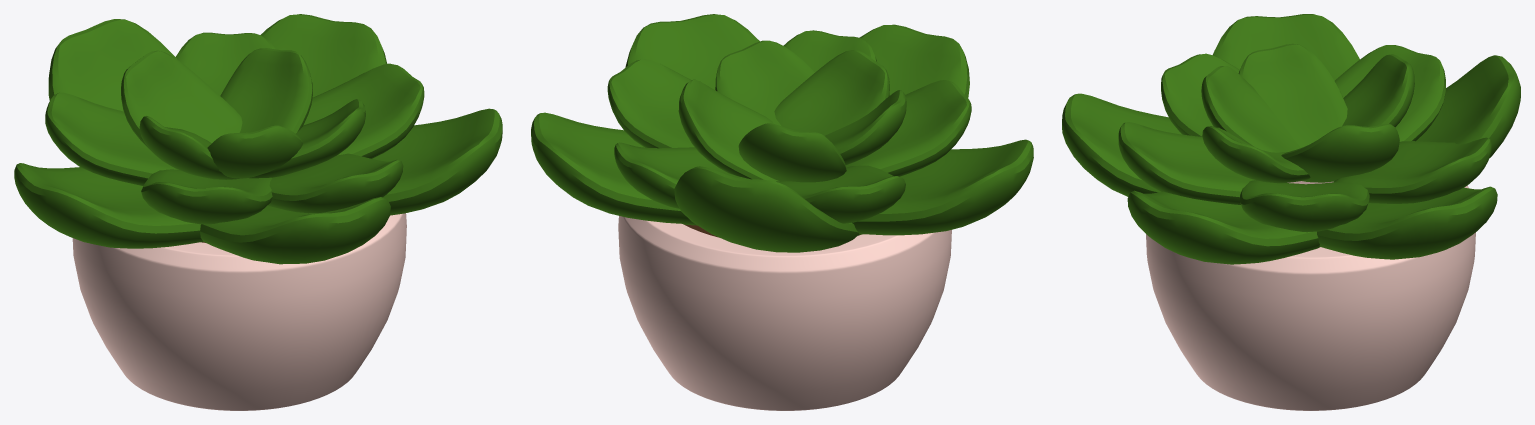
Rendered from Plant_Three.fbx.
The picture shows the model from 3 angles, left to right: view 1: azimuth 30°, elevation 25°; view 2: azimuth 150°, elevation 25°; view 3: azimuth 270°, elevation 25°; orthographic projection.
Parts seen in each view (by area): view 1: Pot.002, Cube.039, Cube.036, Cube.035, Cube.049, Cube.044, Cube.038, Cube.042, Cube.048, Cube.037, Cube.041, Cube.040 (+4 smaller); view 2: Pot.002, Cube.038, Cube.039, Cube.037, Cube.046, Cube.040, Cube.036, Cube.042, Cube.048, Cube.035, Cube.047, Cube.049 (+4 smaller); view 3: Pot.002, Cube.036, Cube.037, Cube.045, Cube.041, Cube.043, Cube.038, Cube.035, Cube.042, Cube.039, Cube.046, Cube.048 (+4 smaller).
Part boxes in pixels (left/top/right/bottom): Pot.002: left=72, top=213, right=406, bottom=410; Cube.039: left=14, top=163, right=203, bottom=248; Cube.036: left=372, top=108, right=502, bottom=215; Cube.035: left=200, top=197, right=390, bottom=264; Cube.049: left=121, top=50, right=242, bottom=149; Cube.044: left=45, top=92, right=178, bottom=185; Cube.038: left=48, top=19, right=176, bottom=111; Cube.042: left=303, top=63, right=424, bottom=158; Cube.048: left=220, top=48, right=312, bottom=133; Cube.037: left=261, top=14, right=387, bottom=97; Cube.041: left=267, top=153, right=403, bottom=213; Cube.040: left=141, top=169, right=272, bottom=224; Pot.002: left=618, top=216, right=951, bottom=410; Cube.038: left=674, top=166, right=859, bottom=252; Cube.039: left=852, top=139, right=1033, bottom=235; Cube.037: left=531, top=112, right=697, bottom=225; Cube.046: left=774, top=50, right=889, bottom=135; Cube.040: left=845, top=80, right=971, bottom=176; Cube.036: left=625, top=14, right=759, bottom=90; Cube.042: left=607, top=59, right=694, bottom=148; Cube.048: left=678, top=79, right=779, bottom=181; Cube.035: left=859, top=24, right=969, bottom=98; Cube.047: left=715, top=40, right=814, bottom=125; Cube.049: left=738, top=123, right=846, bottom=182; Pot.002: left=1146, top=181, right=1475, bottom=410; Cube.036: left=1127, top=190, right=1319, bottom=264; Cube.037: left=1317, top=186, right=1497, bottom=259; Cube.045: left=1238, top=43, right=1347, bottom=147; Cube.041: left=1118, top=122, right=1255, bottom=204; Cube.043: left=1334, top=137, right=1491, bottom=203; Cube.038: left=1416, top=55, right=1520, bottom=157; Cube.035: left=1062, top=93, right=1181, bottom=196; Cube.042: left=1240, top=180, right=1369, bottom=232; Cube.039: left=1213, top=14, right=1359, bottom=80; Cube.046: left=1201, top=66, right=1300, bottom=152; Cube.048: left=1281, top=124, right=1399, bottom=182.
Size of the model in its own units: 186 by 176 by 118.
